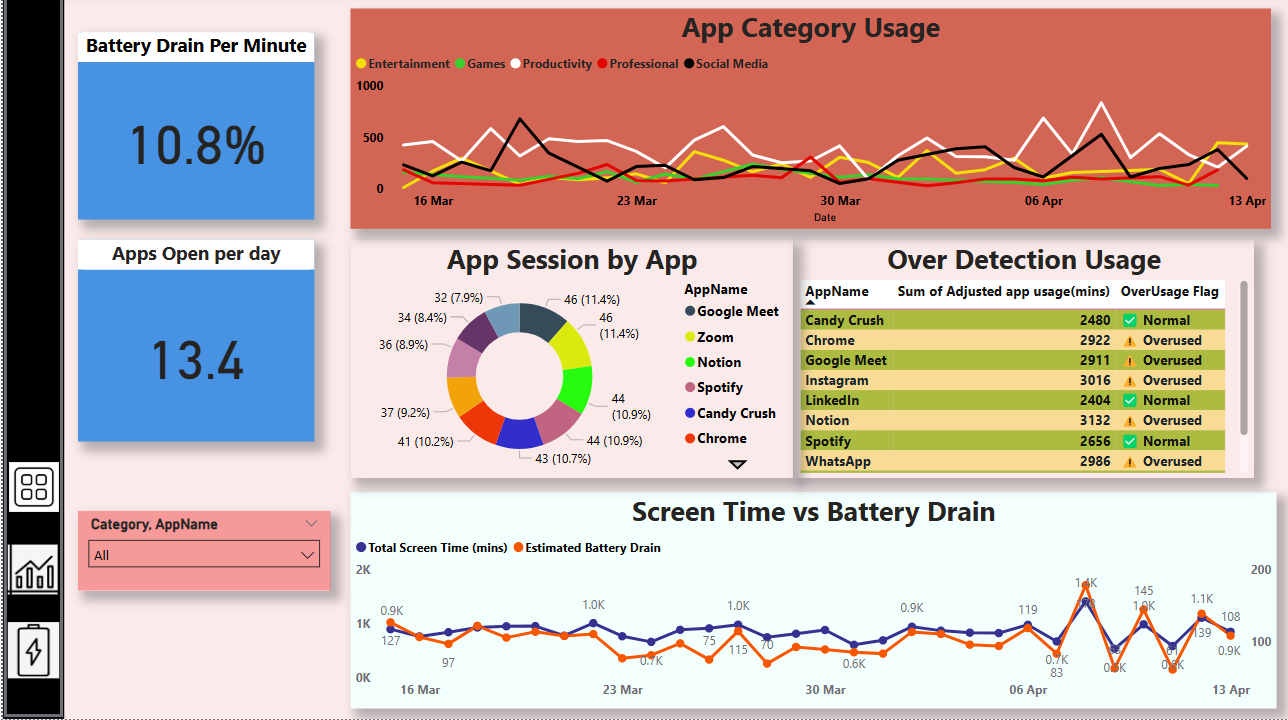

What the dashboard file says about the page in this screenshot:
{"tool":"powerbi","page":{"name":"Over Usage Analysis","canvas":[1280,720],"ordinal":2},"visuals":[{"type":"lineChart","title":"App Category Usage ","fields":{"Y":["Sum(Mobile_Usage_Tracker.Adjusted app usage(mins))"],"Series":["Mobile_Usage_Tracker.Category"],"Category":["Mobile_Usage_Tracker.Date"]},"box":[346.3,13,916.2,219.3],"z":0},{"type":"image","box":[0,459,59.7,59.7],"z":0},{"type":"lineChart","title":"Screen Time vs Battery Drain ","fields":{"Category":["Mobile_Usage_Tracker.Date"],"Y":["Mobile_Usage_Tracker.Total Screen Time (mins)"],"Y2":["Mobile_Usage_Tracker.Estimated Battery Drain"]},"box":[346.3,493.4,921.9,215],"z":1000},{"type":"image","box":[0,537.4,59.7,59.7],"z":1000},{"type":"tableEx","title":"Over Detection Usage","fields":{"Values":["Mobile_Usage_Tracker.AppName","Sum(Mobile_Usage_Tracker.Adjusted app usage(mins))","Mobile_Usage_Tracker.OverUsage Flag"]},"box":[787.7,242.4,457.4,236.6],"z":2000},{"type":"image","box":[0,614.5,61,65.9],"z":2000},{"type":"actionButton","box":[0,0,61,719],"z":3000},{"type":"slicer","fields":{"Values":["Mobile_Usage_Tracker.Category","Mobile_Usage_Tracker.AppName","Mobile_Usage_Tracker.Date"]},"box":[75,512.2,251,79.4],"z":4000},{"type":"card","title":"Battery Drain Per Minute","fields":{"Values":["Mobile_Usage_Tracker.Battery Drain per Minute"]},"box":[74.6,36.1,235.1,186.6],"z":5000},{"type":"card","title":"Apps Open per day","fields":{"Values":["Mobile_Usage_Tracker.AvgAppOpensPerDay"]},"box":[75,242.4,235.2,200.5],"z":6000},{"type":"donutChart","title":"App Session by App","fields":{"Category":["Mobile_Usage_Tracker.AppName"],"Y":["Mobile_Usage_Tracker.AppSessionCount"]},"box":[346.4,242.1,441,236.5],"z":7000},{"type":"image","box":[1.2,459,59.7,59.7],"z":7001,"group":"g1"},{"type":"image","box":[0,541.1,59.7,59.7],"z":7002,"group":"g1"},{"type":"image","box":[0,618.2,61,65.9],"z":7003,"group":"g1"},{"type":"group","id":"g1","title":"Group 1","box":[0,459,61,225.2],"z":7004}]}

Visuals, with their boxes on the page's 1280x720 design canvas (x1, y1, x2, y2). These are canvas units, not pixel positions in the 1288x720 screenshot, which may show the page scaled, cropped or inside an application window:
"App Category Usage " lineChart: [346, 13, 1262, 232]
image: [0, 459, 60, 519]
"Screen Time vs Battery Drain " lineChart: [346, 493, 1268, 708]
image: [0, 537, 60, 597]
"Over Detection Usage" tableEx: [788, 242, 1245, 479]
image: [0, 614, 61, 680]
actionButton: [0, 0, 61, 719]
slicer - Mobile_Usage_Tracker.Category x Mobile_Usage_Tracker.AppName: [75, 512, 326, 592]
"Battery Drain Per Minute" card: [75, 36, 310, 223]
"Apps Open per day" card: [75, 242, 310, 443]
"App Session by App" donutChart: [346, 242, 787, 479]
image: [1, 459, 61, 519]
image: [0, 541, 60, 601]
image: [0, 618, 61, 684]
"Group 1" group: [0, 459, 61, 684]
